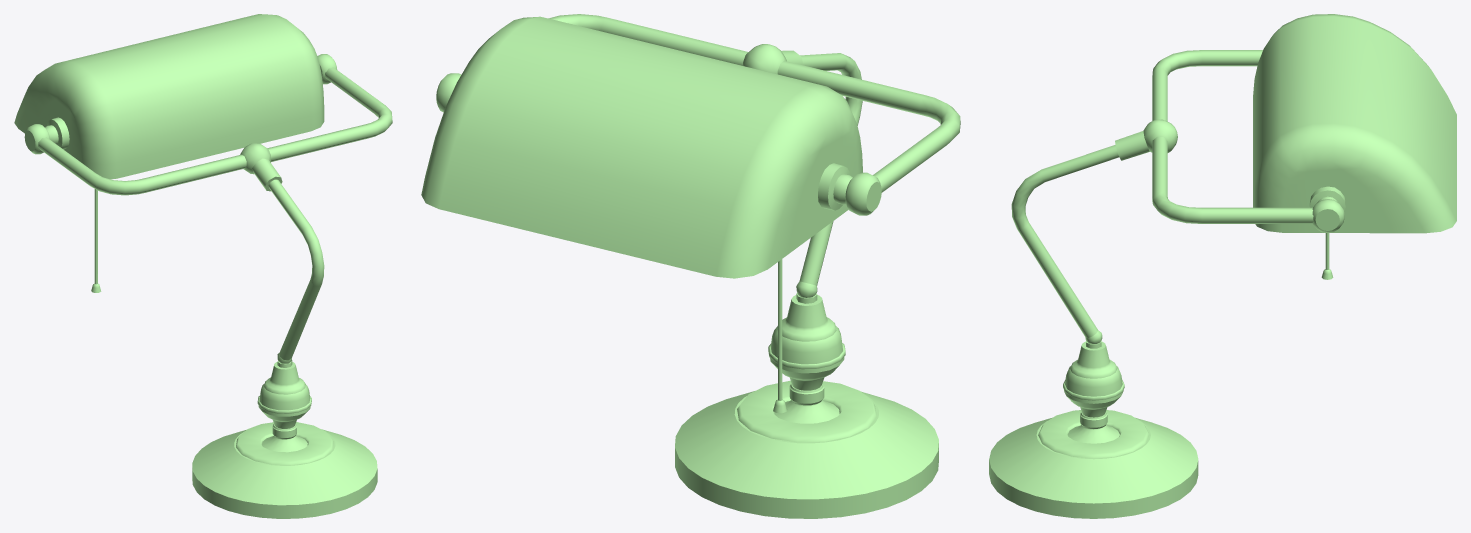
File: Desk_Lamp.fbx
3 renders of one model, left to right at view 1: azimuth 30°, elevation 25°; view 2: azimuth 150°, elevation 25°; view 3: azimuth 270°, elevation 25°, orthographic. The views are drawn at different scales.
Parts seen in each view (by area): view 1: SM_Desk_Lamp; view 2: SM_Desk_Lamp; view 3: SM_Desk_Lamp.
Part boxes in pixels (x1=…): SM_Desk_Lamp: x1=14, y1=14, x2=392, y2=518; SM_Desk_Lamp: x1=421, y1=14, x2=960, y2=518; SM_Desk_Lamp: x1=989, y1=14, x2=1456, y2=518.
Size of the model in its own units: 3.54 by 4.03 by 4.22.
